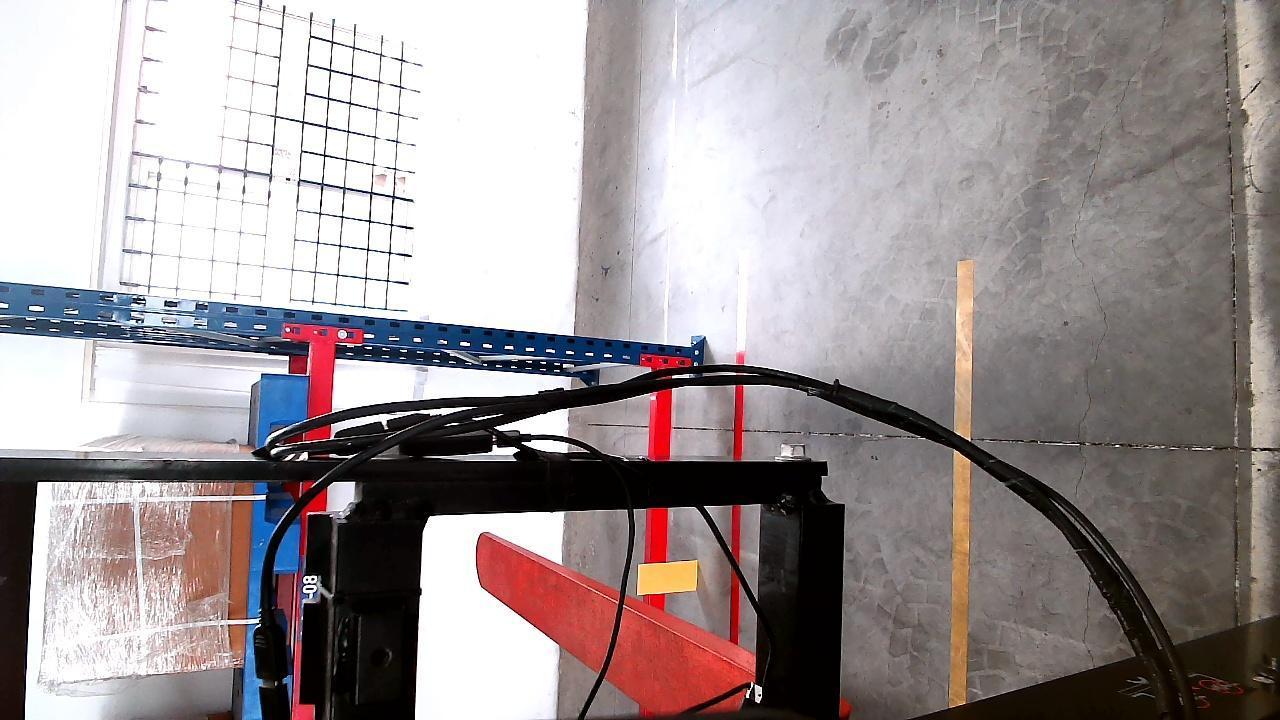red_line: (726, 252, 748, 643)
yellow_line: (948, 251, 976, 711)
